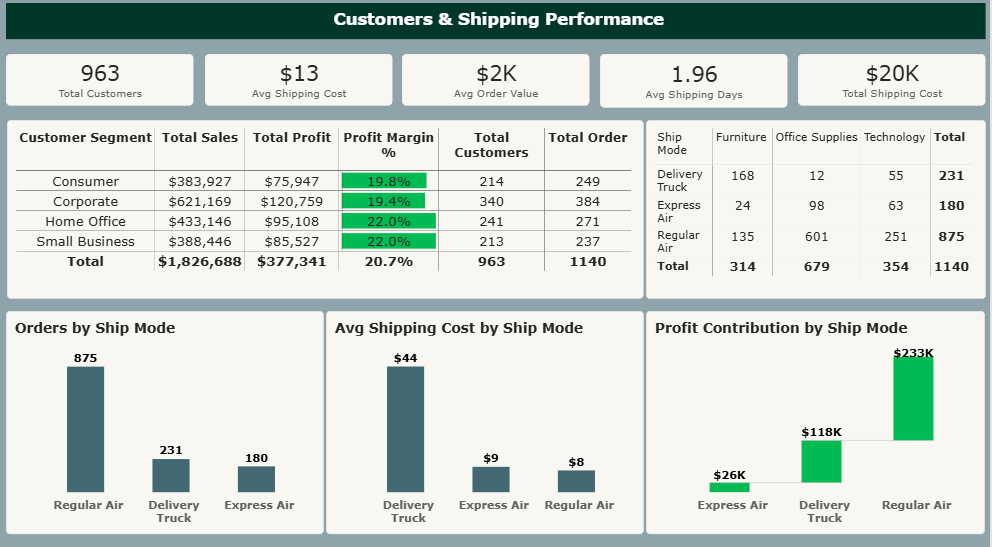

The dashboard page shown, as its layout file describes it:
{"tool":"powerbi","page":{"name":"Customers & Shipping","canvas":[1920,1080],"ordinal":3},"visuals":[{"type":"shape","box":[16.2,9.7,1896,70.3],"z":0,"group":"g1"},{"type":"cardVisual","fields":{"Data":["Measures..Total Shipping Cost"]},"box":[1548,109.2,363,100],"z":0},{"type":"textbox","box":[14,9.8,1896,70.3],"z":1000,"group":"g1"},{"type":"cardVisual","fields":{"Data":["Measures..Avg Shipping Days"]},"box":[1165,109.2,363,104.5],"z":1000},{"type":"cardVisual","fields":{"Data":["Measures..Total Customers"]},"box":[16,109.2,363,100],"z":2000},{"type":"cardVisual","fields":{"Data":["Measures..Average Shipping Cost"]},"box":[400.5,109.2,363,100],"z":3000},{"type":"cardVisual","fields":{"Data":["Measures..Avg Order Value"]},"box":[782,109,363,100],"z":4000},{"type":"group","id":"g1","title":"Group 1","box":[14,9.7,1895.7,70.4],"z":5000},{"type":"tableEx","fields":{"Values":["Orders.Customer Segment","Measures..Total Sales","Measures..Total Profit","Measures..Profit Margin %","Measures..Total Customers","Measures..Total Order"]},"box":[17.1,236.6,1231.7,346.3],"z":6000},{"type":"clusteredColumnChart","title":"Orders by Ship Mode","fields":{"Category":["Orders.Ship Mode"],"Y":["Measures..Total Order"]},"box":[14.6,604.9,614.6,431.7],"z":7000},{"type":"clusteredColumnChart","title":"Avg Shipping Cost by Ship Mode","fields":{"Category":["Orders.Ship Mode"],"Y":["Measures..Avg Shipping Cost"]},"box":[634.1,604.9,614.6,431.7],"z":8000},{"type":"pivotTable","fields":{"Columns":["Orders.Product Category"],"Rows":["Orders.Ship Mode"],"Values":["Measures..Total Order"]},"box":[1254.2,236.1,658.1,346.5],"z":9000},{"type":"waterfallChart","title":"Profit Contribution by Ship Mode","fields":{"Category":["Orders.Ship Mode"],"Y":["Measures..Total Profit"]},"box":[1254.2,605.8,656.1,431.6],"z":10000}]}

Visuals, with their boxes in screenshot pixels (x1, y1, x2, y2), scaled from the page's 1920x1080 canvas onto the 992x547 screenshot:
shape: l=8, t=5, r=988, b=41
cardVisual - Measures..Total Shipping Cost: l=800, t=55, r=987, b=106
textbox: l=7, t=5, r=987, b=41
cardVisual - Measures..Avg Shipping Days: l=602, t=55, r=789, b=108
cardVisual - Measures..Total Customers: l=8, t=55, r=196, b=106
cardVisual - Measures..Average Shipping Cost: l=207, t=55, r=394, b=106
cardVisual - Measures..Avg Order Value: l=404, t=55, r=592, b=106
"Group 1" group: l=7, t=5, r=987, b=41
tableEx - Orders.Customer Segment x Measures..Total Sales: l=9, t=120, r=645, b=295
"Orders by Ship Mode" clusteredColumnChart: l=8, t=306, r=325, b=525
"Avg Shipping Cost by Ship Mode" clusteredColumnChart: l=328, t=306, r=645, b=525
pivotTable - Orders.Product Category x Orders.Ship Mode: l=648, t=120, r=988, b=295
"Profit Contribution by Ship Mode" waterfallChart: l=648, t=307, r=987, b=525
